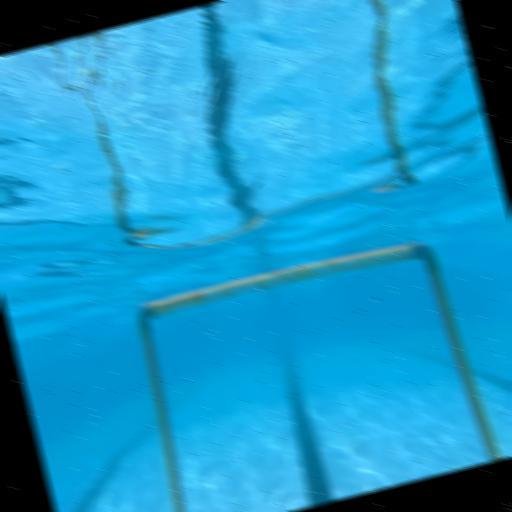gate: (122, 227, 504, 512)
